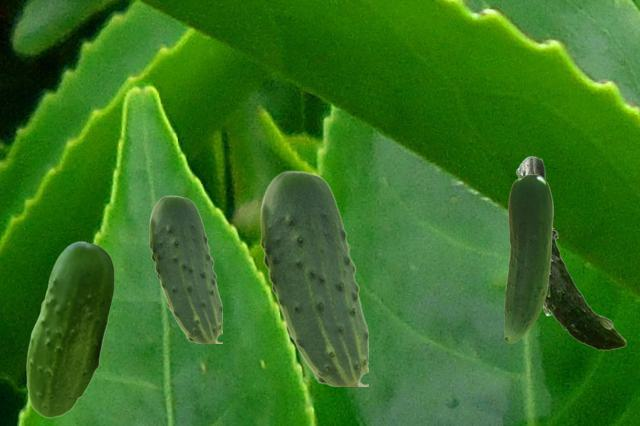cucumber: (260, 170, 367, 385), (515, 156, 625, 349), (26, 241, 113, 417), (149, 195, 221, 342), (504, 174, 552, 342)
